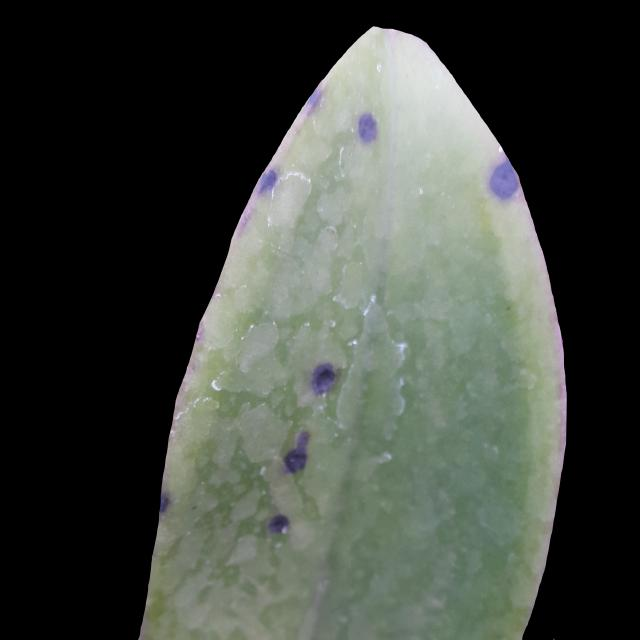mite: (255, 109, 524, 543), (159, 356, 348, 542), (261, 357, 341, 539), (279, 359, 340, 477), (283, 447, 307, 474), (266, 513, 290, 535), (158, 489, 172, 515)
